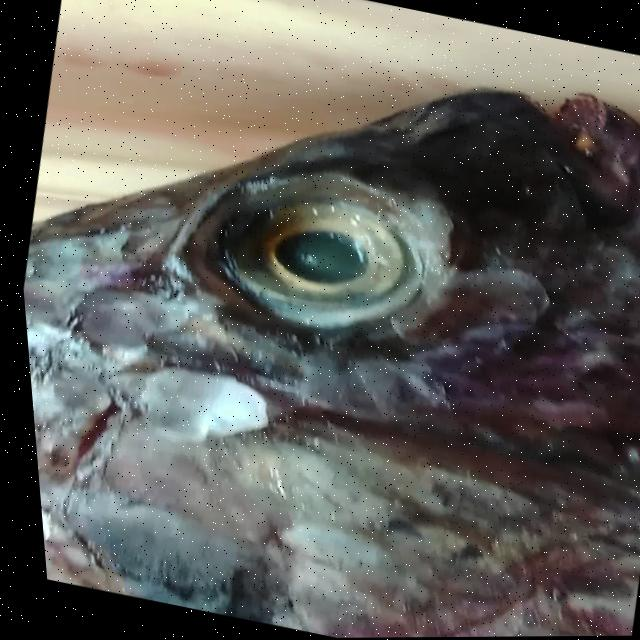Non-Fresh: (133, 123, 489, 389)
